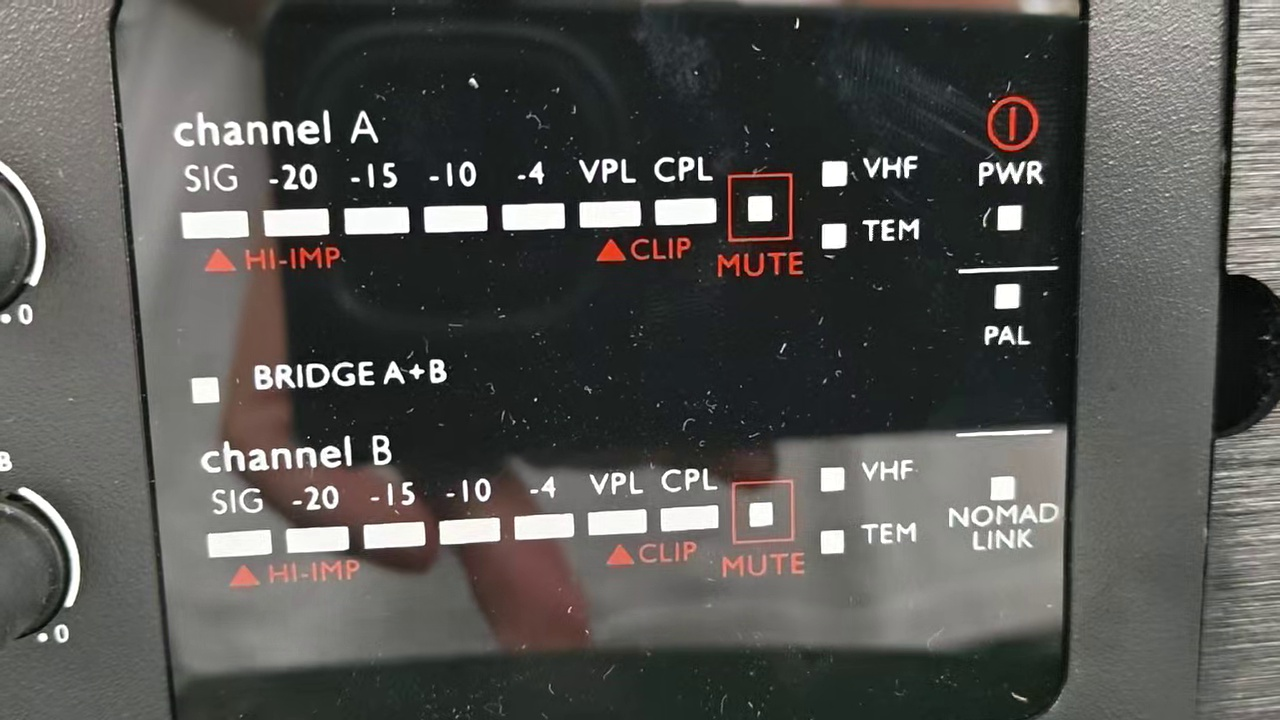FP_CPL: (648, 152, 718, 233), (657, 465, 722, 536)
FP_PWR: (970, 154, 1046, 236)
FP_PWR_area: (966, 94, 1054, 264)
FP_SIG_area: (190, 426, 920, 590), (173, 152, 923, 280)
FP_VPL: (571, 154, 645, 235), (580, 464, 649, 540)
